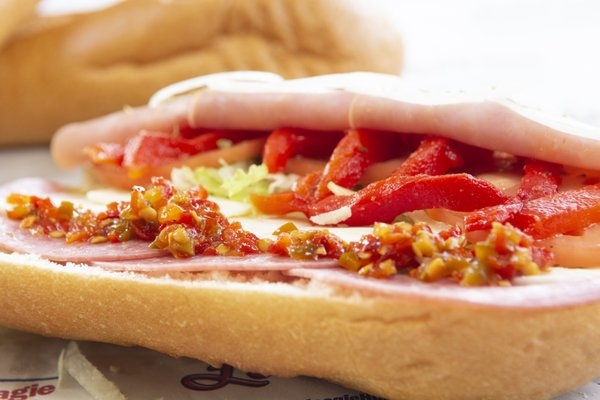burger: (0, 110, 597, 393)
